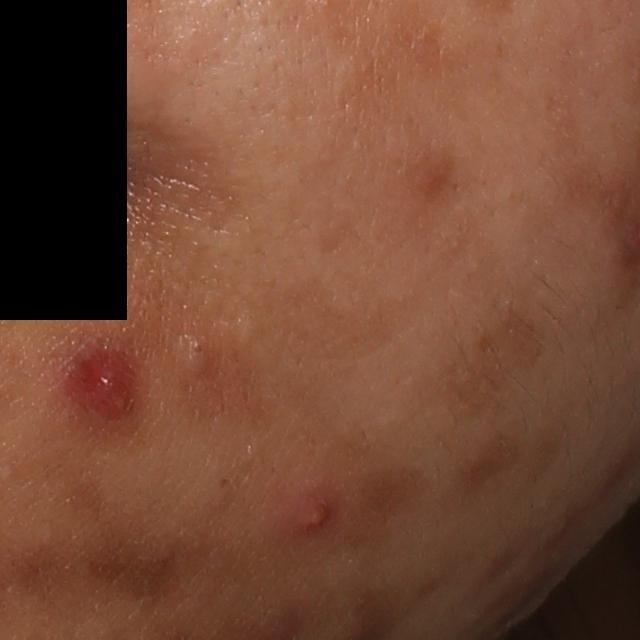papule: (75, 347, 142, 421)
